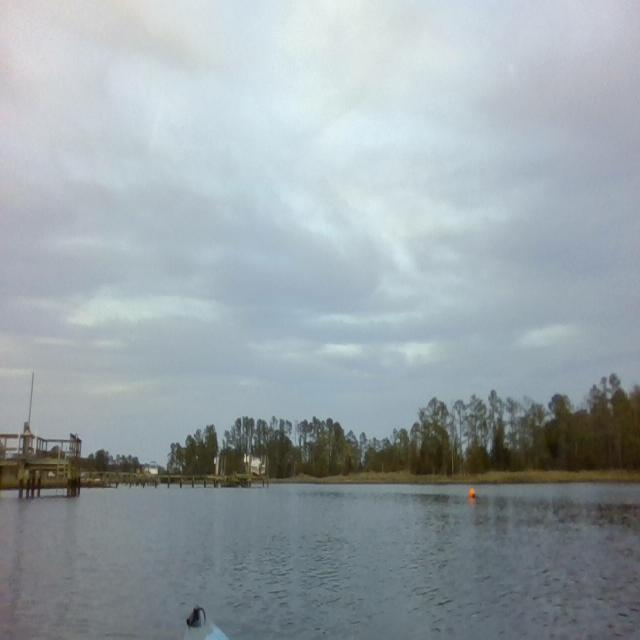Buoy: (467, 486, 478, 501)
